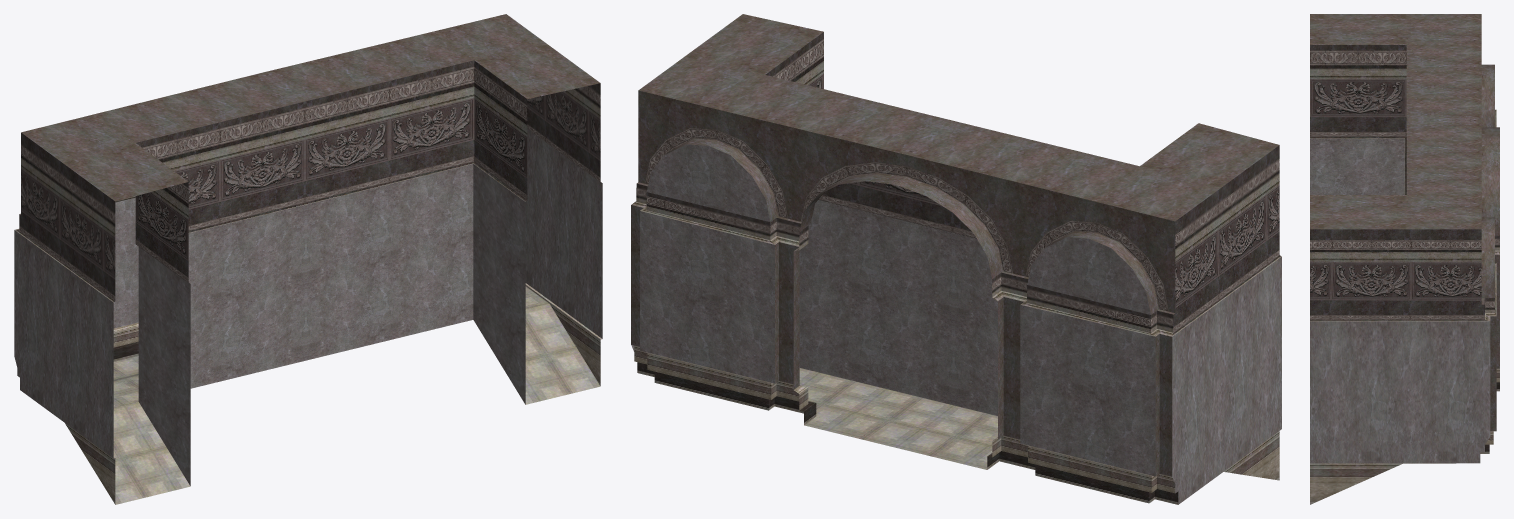
Rendered from mun_corl_capitol_s01_r2_foyer1_r2_foyer1.fbx.
The picture shows the model from 3 angles, left to right: view 1: azimuth 30°, elevation 25°; view 2: azimuth 150°, elevation 25°; view 3: azimuth 270°, elevation 25°; orthographic projection. The views are drawn at different scales.
Visible parts, largest first — view 1: mesh_node; view 2: mesh_node; view 3: mesh_node.
Part boxes in pixels (<box>): mesh_node: <box>14,14,602,504</box>; mesh_node: <box>631,14,1281,504</box>; mesh_node: <box>1310,14,1499,504</box>.
Size of the model in its own units: 26 by 15.5 by 9.62.
